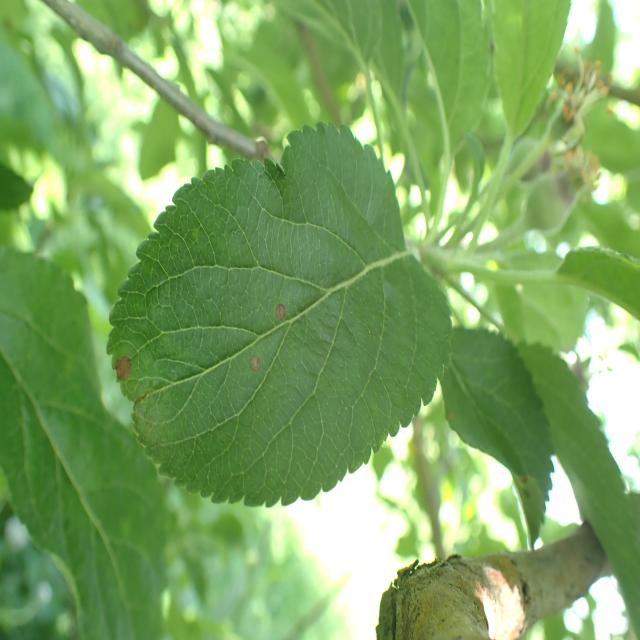Black Rot: (104, 336, 139, 400), (240, 333, 267, 389), (269, 285, 291, 339)
